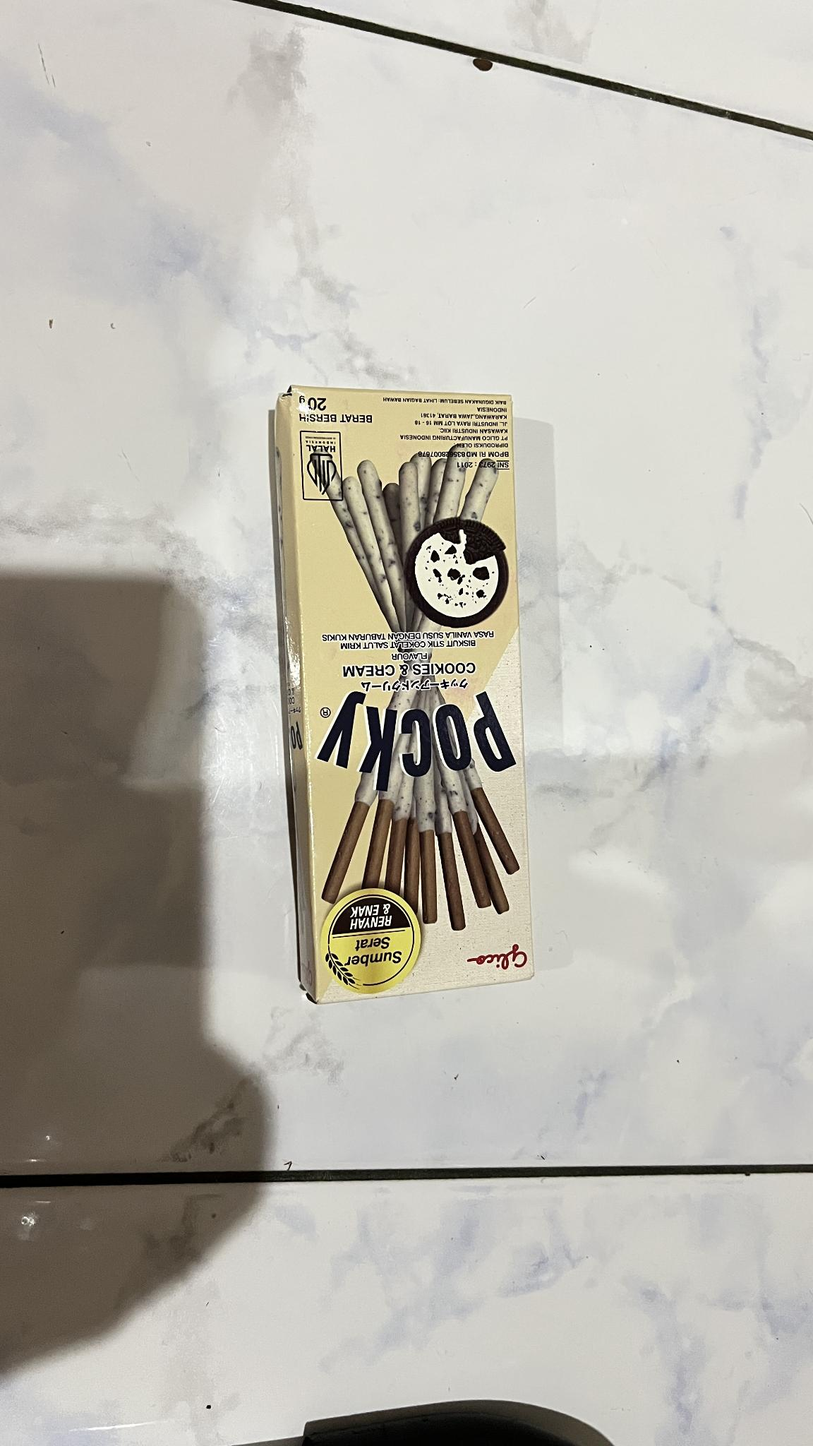Kertas: (258, 387, 556, 1008)
